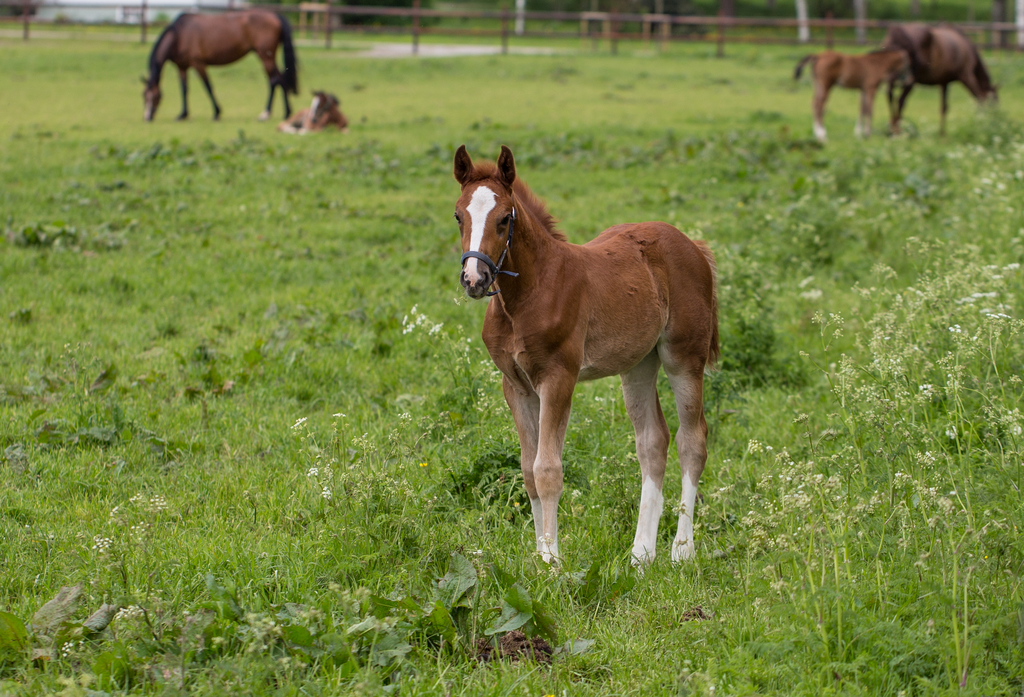horse: (137, 5, 301, 118)
